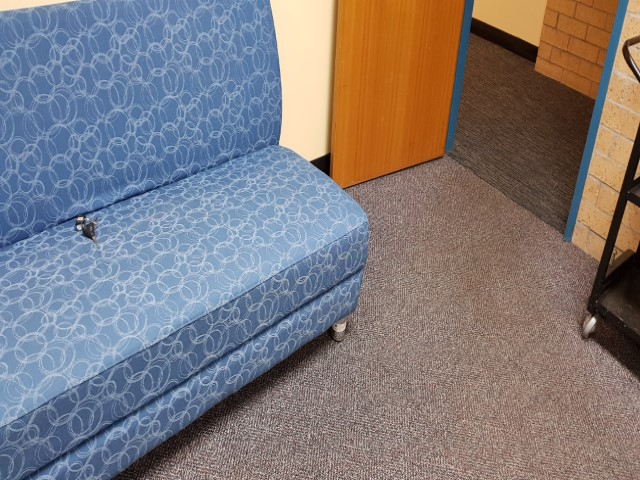key: (83, 223, 101, 247)
